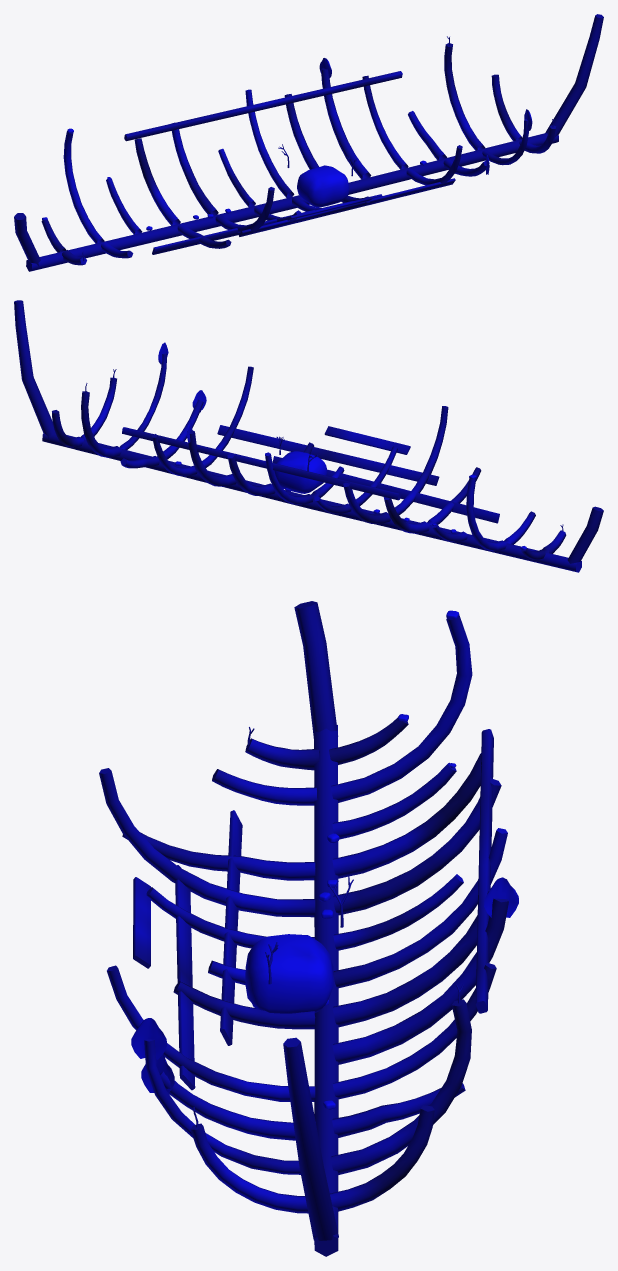
Rendered from wreck_ribs.glb.
3 renders of one model, top to bottom at view 1: azimuth 30°, elevation 25°; view 2: azimuth 150°, elevation 25°; view 3: azimuth 270°, elevation 25°, orthographic. The views are drawn at different scales.
Visible parts, largest first — view 1: wreck_ribs; view 2: wreck_ribs; view 3: wreck_ribs.
Boxes of the visible parts, bbox=[...] form: wreck_ribs: bbox=[14, 14, 603, 271]; wreck_ribs: bbox=[14, 300, 603, 572]; wreck_ribs: bbox=[99, 601, 518, 1256].
Size of what is drawn, in the model's own units: 16.63 by 3.46 by 5.18.
